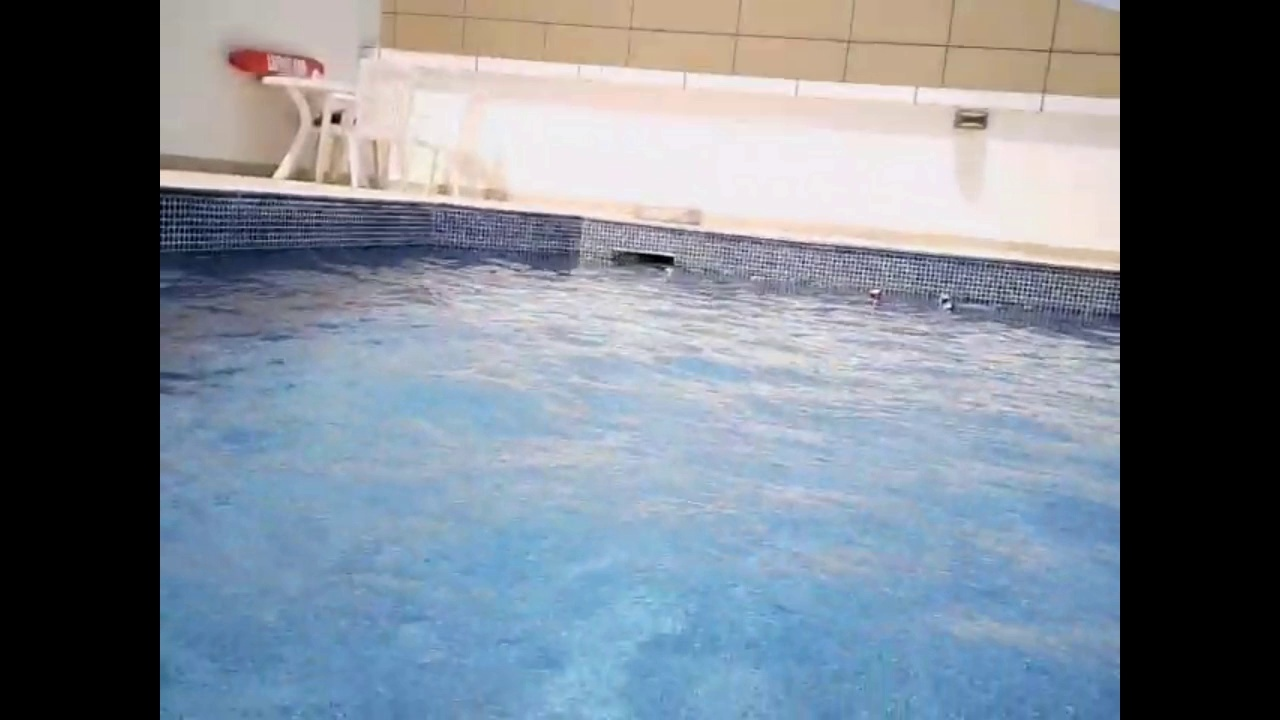debris: (937, 287, 955, 311), (862, 284, 882, 301), (662, 263, 675, 275)
